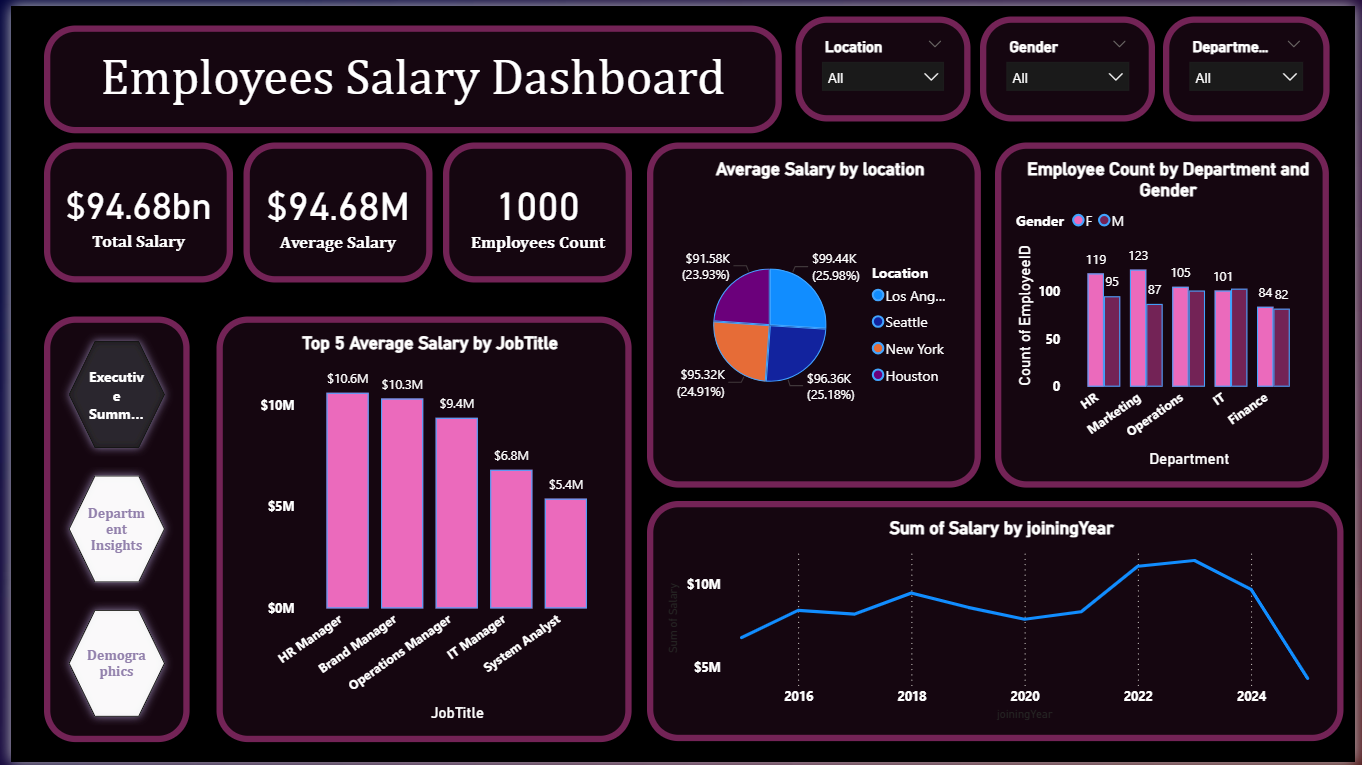

The dashboard page shown, as its layout file describes it:
{"tool":"powerbi","page":{"name":"Executive Summary","canvas":[1280,720],"ordinal":0},"visuals":[{"type":"card","fields":{"Values":["Sum(Employee_Salary_Dataset.Total_Salary)"]},"box":[31.7,130,180,133.3],"z":0},{"type":"textbox","box":[31.8,18.2,702.6,103],"z":1000},{"type":"card","fields":{"Values":["Sum(Employee_Salary_Dataset.Average_Salary)"]},"box":[221,130,180,133.3],"z":2000},{"type":"card","fields":{"Values":["CountNonNull(Employee_Salary_Dataset.Employees Count)"]},"box":[411.7,130,180,133.3],"z":3000},{"type":"clusteredColumnChart","title":"Top 5 Average Salary by JobTitle","fields":{"Category":["Employee_Salary_Dataset.JobTitle"],"Y":["Sum(Employee_Salary_Dataset.Average_Salary)"]},"box":[195,295,395,405],"z":4000},{"type":"clusteredColumnChart","title":"Employee Count by Department and Gender","fields":{"Category":["Employee_Salary_Dataset.Department"],"Y":["CountNonNull(Employee_Salary_Dataset.EmployeeID)"],"Series":["Employee_Salary_Dataset.Gender"]},"box":[937.3,130.2,318,328.6],"z":5000},{"type":"lineChart","fields":{"Category":["Employee_Salary_Dataset.joiningYear"],"Y":["Sum(Employee_Salary_Dataset.Salary)"]},"box":[605.7,470.9,663.2,228.6],"z":6000},{"type":"pieChart","title":"Average Salary by location","fields":{"Y":["Avg(Employee_Salary_Dataset.Salary)"],"Category":["Employee_Salary_Dataset.Location"]},"box":[605.7,130.2,318,328.6],"z":7000},{"type":"pageNavigator","box":[31.7,295,138.3,405],"z":8000},{"type":"slicer","fields":{"Values":["Employee_Salary_Dataset.Department"]},"box":[1096.7,10,158.3,100],"z":9000},{"type":"slicer","fields":{"Values":["Employee_Salary_Dataset.Gender"]},"box":[923.3,10,166.7,100],"z":10000},{"type":"slicer","fields":{"Values":["Employee_Salary_Dataset.Location"]},"box":[746.5,10.6,166.6,99.9],"z":11000}]}

Visuals, with their boxes in screenshot pixels (x1, y1, x2, y2), scaled from the page's 1280x720 canvas onto the 1362x765 screenshot:
card - Sum(Employee_Salary_Dataset.Total_Salary): 34 138 225 280
textbox: 34 19 781 129
card - Sum(Employee_Salary_Dataset.Average_Salary): 235 138 427 280
card - CountNonNull(Employee_Salary_Dataset.Employees Count): 438 138 630 280
"Top 5 Average Salary by JobTitle" clusteredColumnChart: 207 313 628 744
"Employee Count by Department and Gender" clusteredColumnChart: 997 138 1336 487
lineChart - Employee_Salary_Dataset.joiningYear x Sum(Employee_Salary_Dataset.Salary): 645 500 1350 743
"Average Salary by location" pieChart: 645 138 983 487
pageNavigator: 34 313 181 744
slicer - Employee_Salary_Dataset.Department: 1167 11 1335 117
slicer - Employee_Salary_Dataset.Gender: 982 11 1160 117
slicer - Employee_Salary_Dataset.Location: 794 11 972 117
